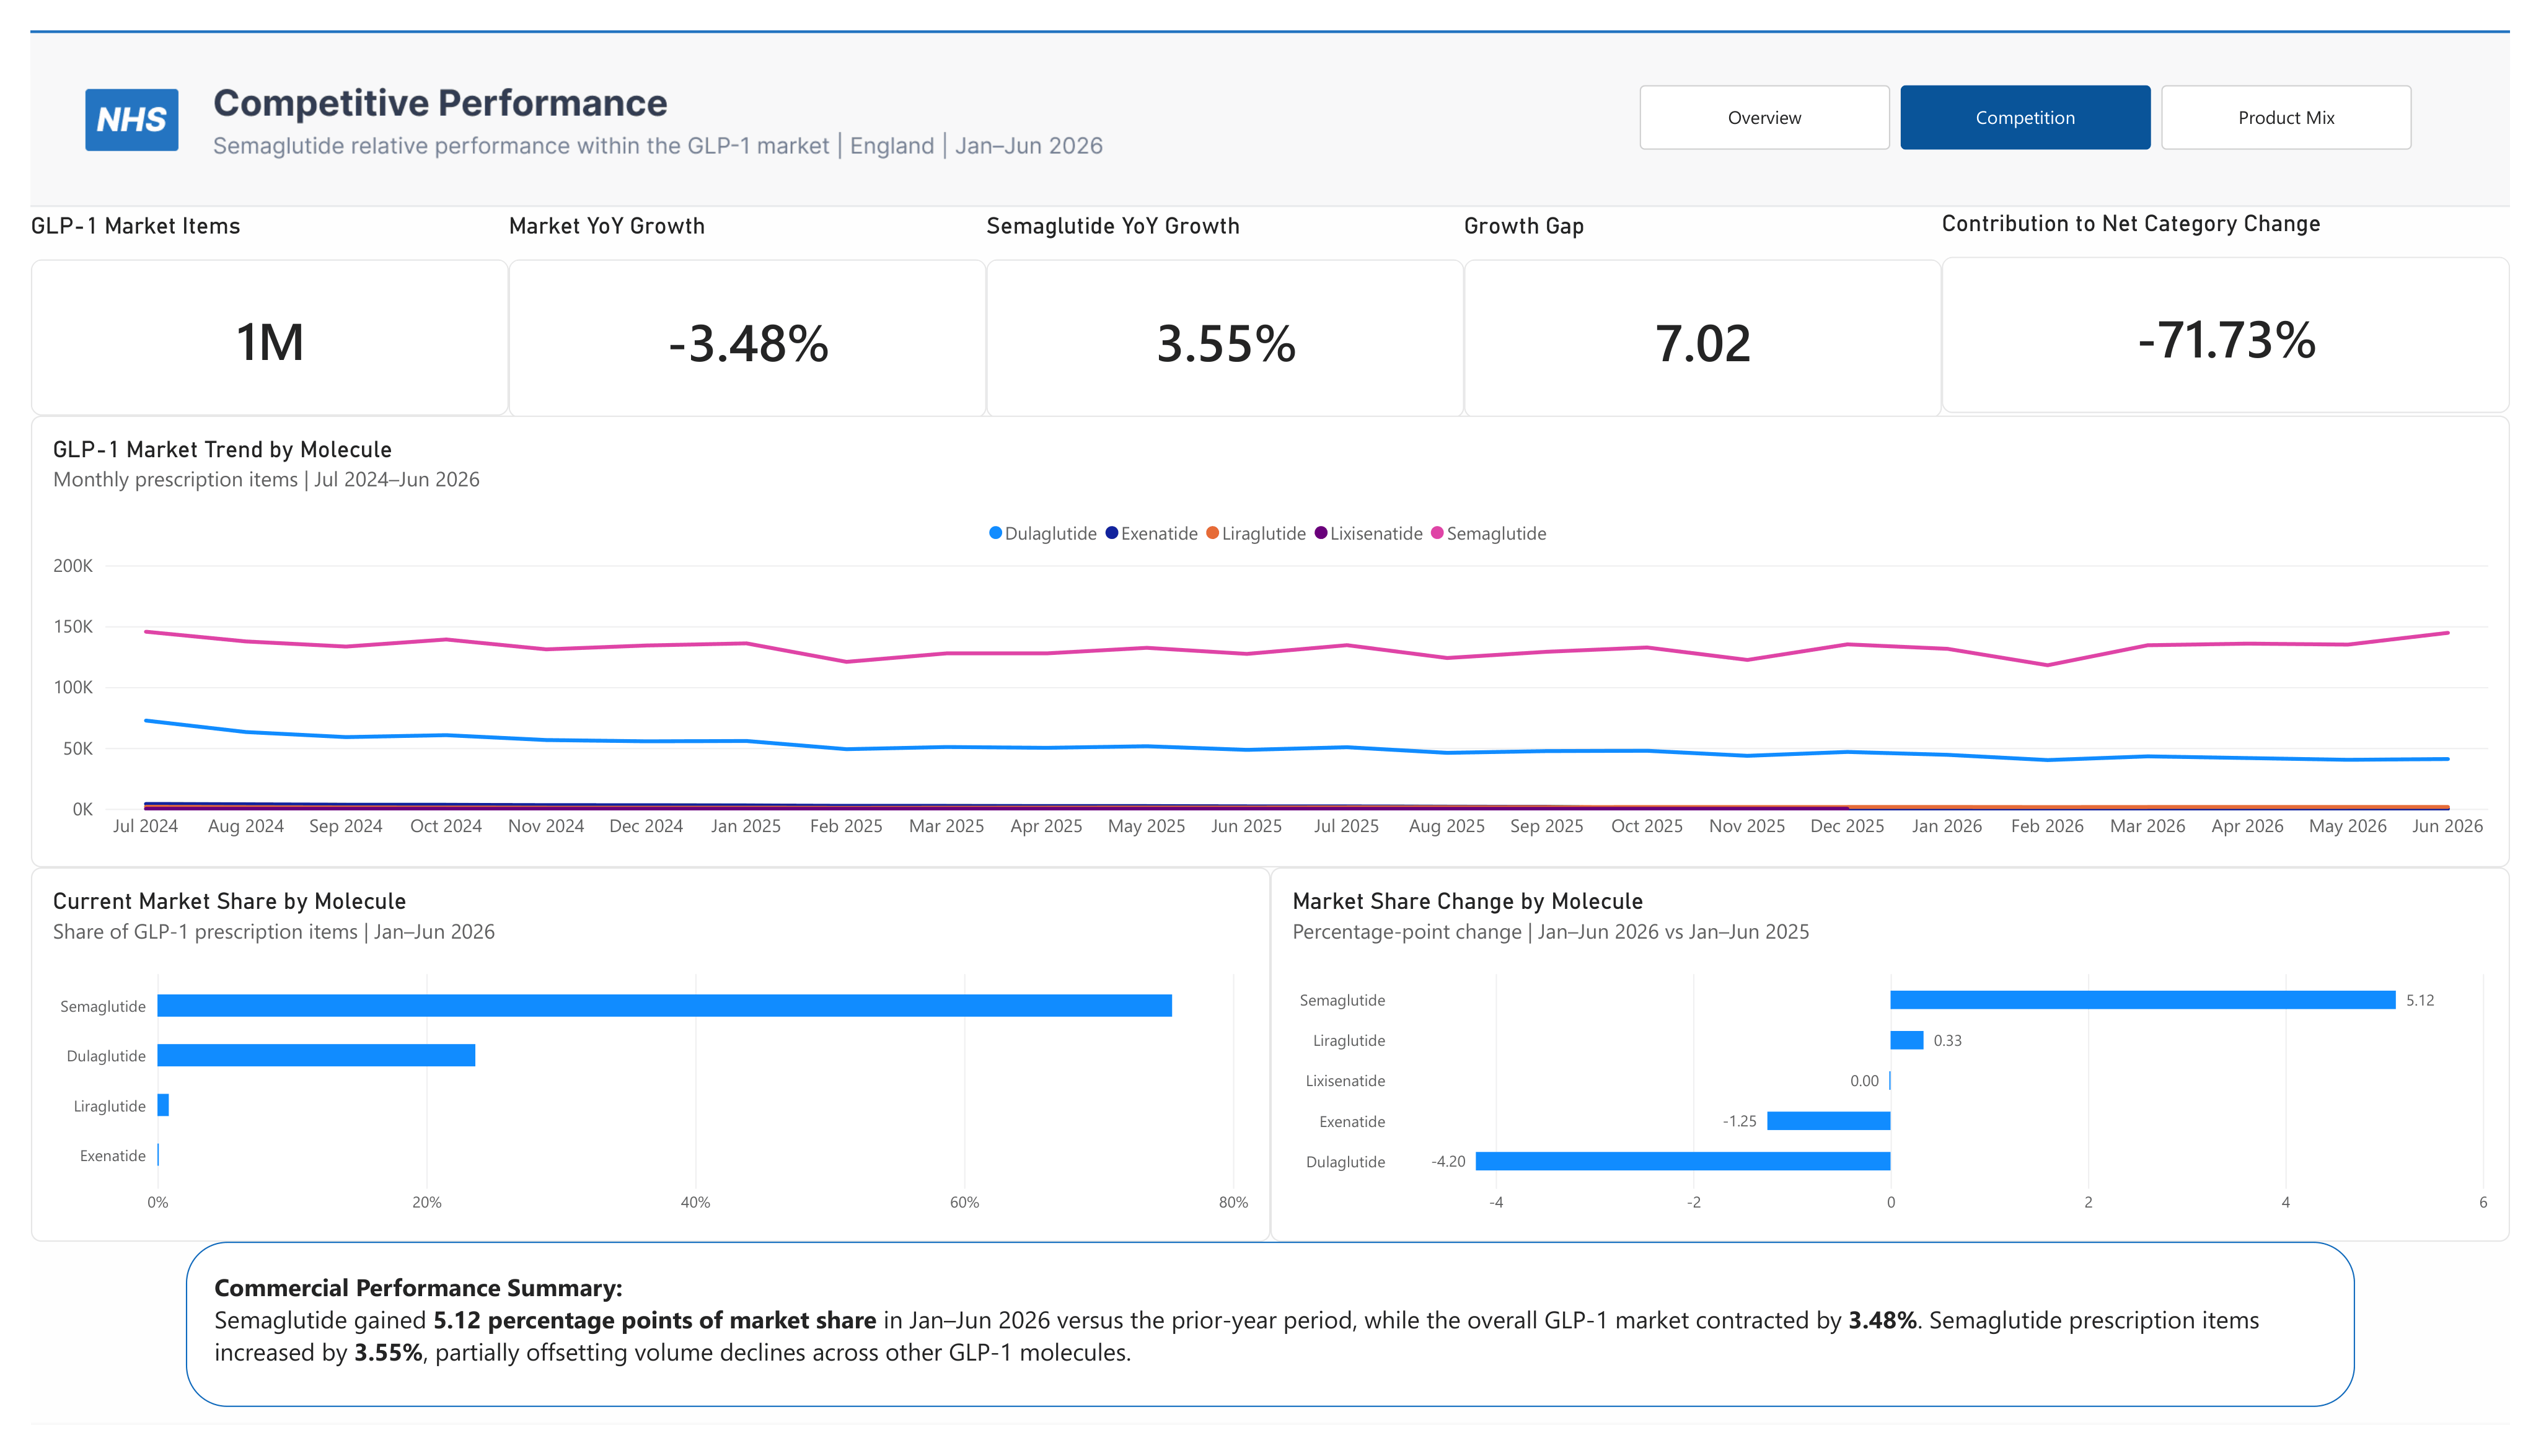

Layout of this report page (visuals, bound fields, positions):
{"tool":"powerbi","page":{"name":"Competition","canvas":[1920,1080],"ordinal":1},"visuals":[{"type":"cardVisual","title":"GLP-1 Market Items","fields":{"Data":["Measure_Table.GLP1 Market Items"]},"box":[0,140,370,158],"z":0},{"type":"shape","box":[120,938,1680,128],"z":0,"group":"g1"},{"type":"cardVisual","title":"Market YoY Growth","fields":{"Data":["Measure_Table.GLP1 Market YoY Growth"]},"box":[370,140,370,160],"z":1000},{"type":"textbox","box":[142,960,1592,86],"z":1000,"group":"g1"},{"type":"cardVisual","title":"Semaglutide YoY Growth","fields":{"Data":["Measure_Table.Semaglutide YoY Growth"]},"box":[740,140,370,160],"z":2000},{"type":"cardVisual","title":"Growth Gap","fields":{"Data":["Measure_Table.Growth Gap (pp)"]},"box":[1110,140,370,160],"z":3000},{"type":"cardVisual","title":"Contribution to Net Category Change","fields":{"Data":["Measure_Table.Semaglutide Contribution to Growth"]},"box":[1480,138,440,158],"z":4000},{"type":"lineChart","title":"GLP-1 Market Trend by Molecule","fields":{"Category":["Dim_Calendar.MonthYear"],"Series":["Dim_Chemical.Molecule"],"Y":["Measure_Table.Total Items"]},"box":[0,298,1920,350],"z":5000},{"type":"clusteredBarChart","title":"Current Market Share by Molecule","fields":{"Category":["Dim_Chemical.Molecule"],"Y":["Measure_Table.Molecule Market Share"]},"box":[0,648,960,290],"z":6000},{"type":"clusteredBarChart","title":"Market Share Change by Molecule","fields":{"Category":["Dim_Chemical.Molecule"],"Y":["Measure_Table.Molecule Share Change (pp)"]},"box":[960,648,960,290],"z":7000},{"type":"group","id":"g1","title":"Group 1","box":[120,938,1680,128],"z":8000},{"type":"pageNavigator","box":[1246,42,600,50],"z":8001}]}

Visuals, with their boxes on the page's 1920x1080 design canvas (x1, y1, x2, y2). These are canvas units, not pixel positions in the 2541x1456 screenshot, which may show the page scaled, cropped or inside an application window:
"GLP-1 Market Items" cardVisual: BBox(0, 140, 370, 298)
shape: BBox(120, 938, 1800, 1066)
"Market YoY Growth" cardVisual: BBox(370, 140, 740, 300)
textbox: BBox(142, 960, 1734, 1046)
"Semaglutide YoY Growth" cardVisual: BBox(740, 140, 1110, 300)
"Growth Gap" cardVisual: BBox(1110, 140, 1480, 300)
"Contribution to Net Category Change" cardVisual: BBox(1480, 138, 1920, 296)
"GLP-1 Market Trend by Molecule" lineChart: BBox(0, 298, 1920, 648)
"Current Market Share by Molecule" clusteredBarChart: BBox(0, 648, 960, 938)
"Market Share Change by Molecule" clusteredBarChart: BBox(960, 648, 1920, 938)
"Group 1" group: BBox(120, 938, 1800, 1066)
pageNavigator: BBox(1246, 42, 1846, 92)
